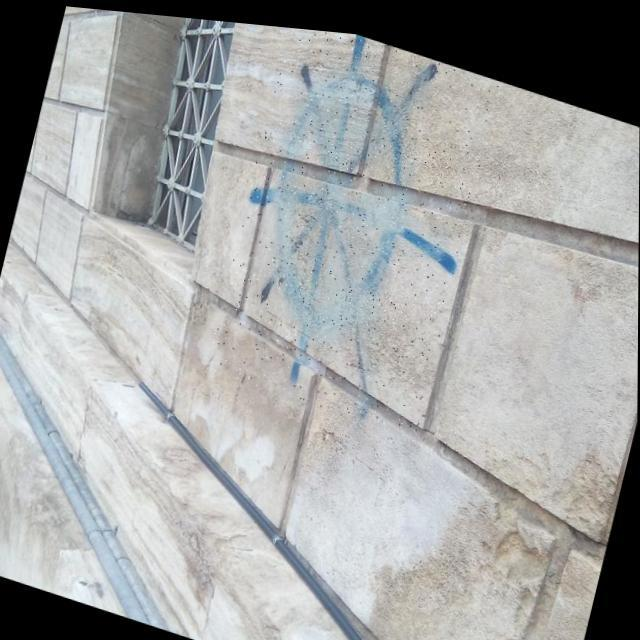-: (206, 16, 503, 435)
